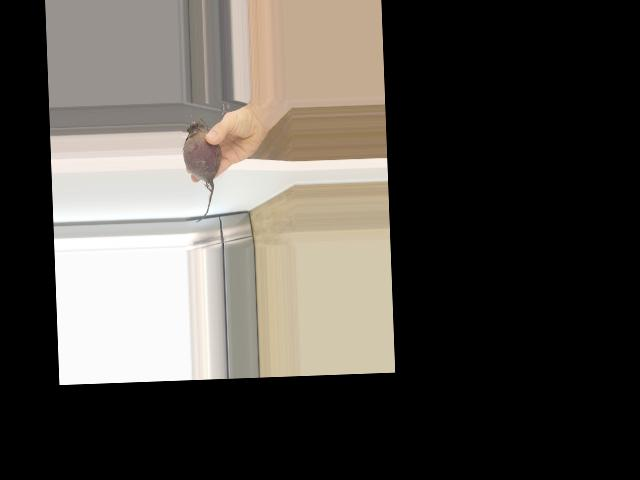beet: (181, 117, 223, 222)
